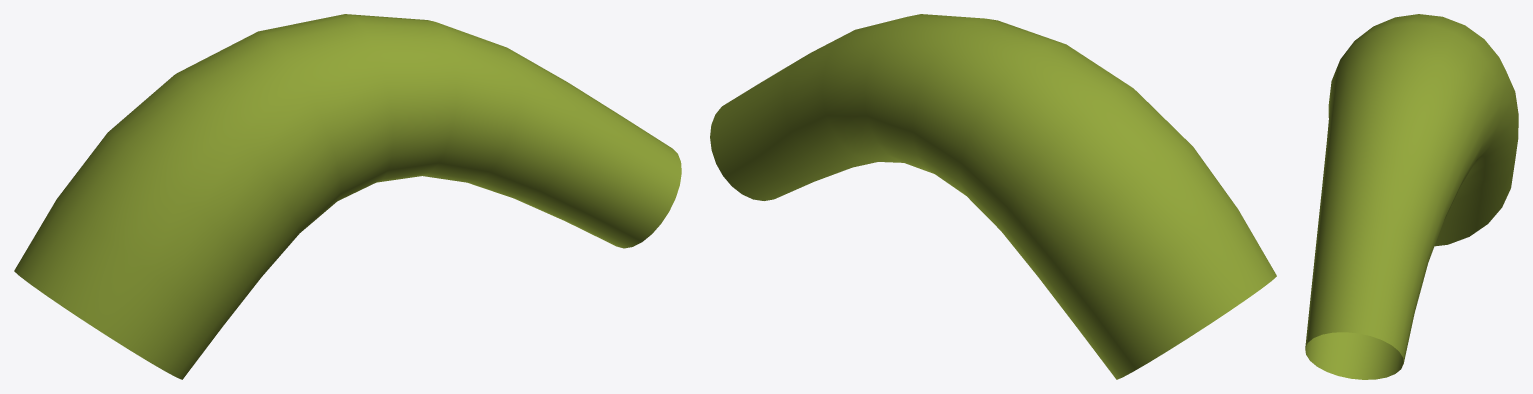
File: vine2.fbx
The picture shows the model from 3 angles, left to right: view 1: azimuth 30°, elevation 25°; view 2: azimuth 150°, elevation 25°; view 3: azimuth 270°, elevation 25°; orthographic projection. The views are drawn at different scales.
Visible parts, largest first — view 1: Plane.016; view 2: Plane.016; view 3: Plane.016.
Boxes of the visible parts, x1,y1,x2,y2 form: Plane.016: (14,14,681,379); Plane.016: (710,14,1276,379); Plane.016: (1305,14,1518,379).
Bounding box in the file's own units: 550 × 268 × 191.
